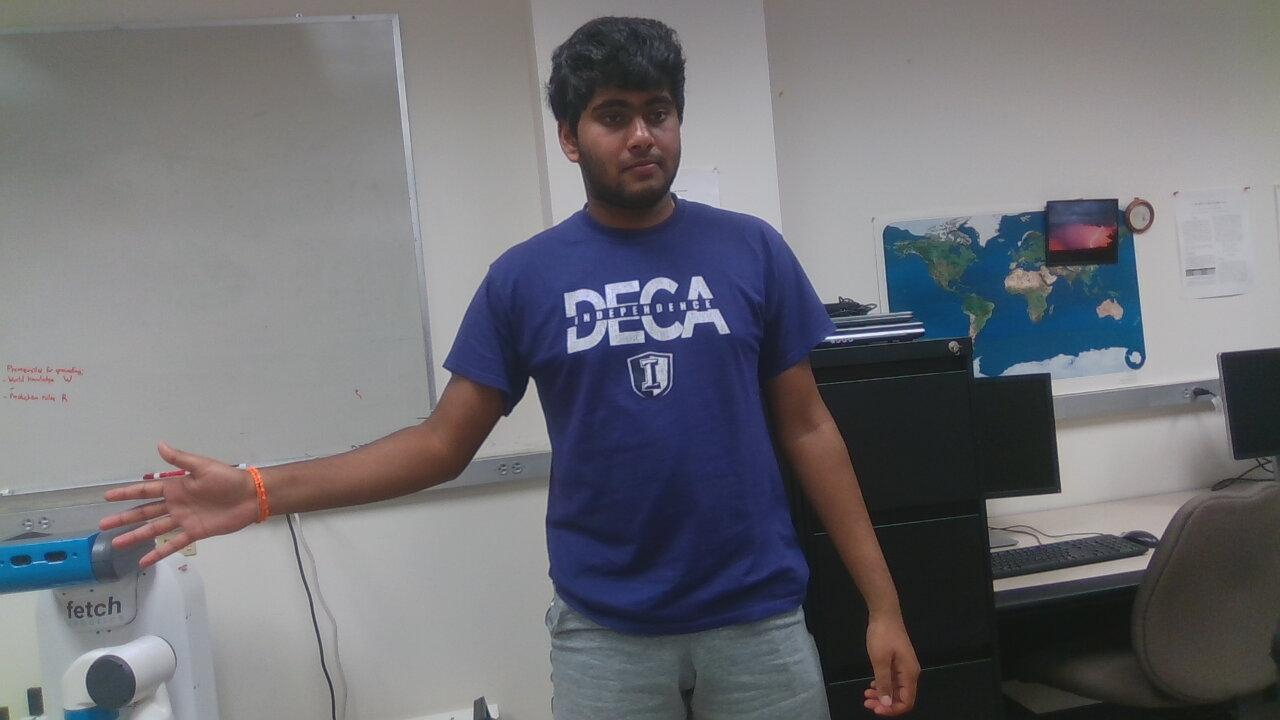hands: (98, 437, 274, 578), (848, 594, 935, 720)
